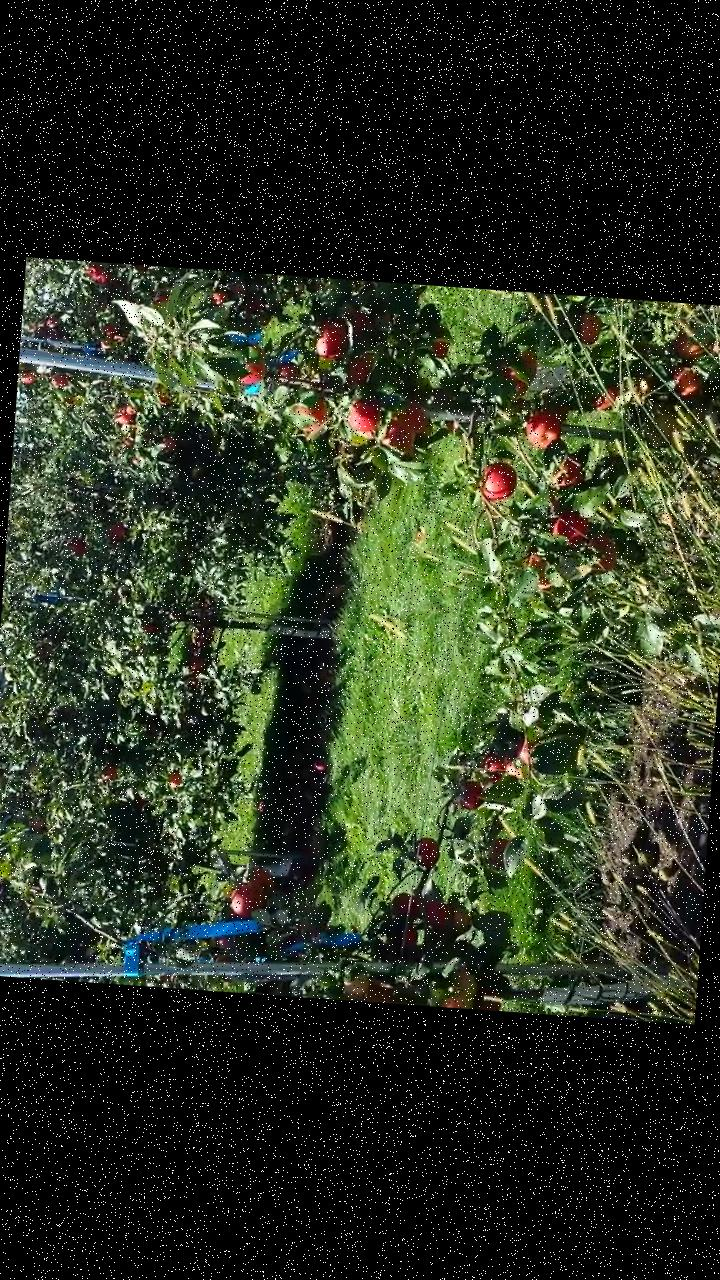Apple: (498, 346, 536, 394), (523, 404, 563, 449), (479, 458, 519, 502), (550, 506, 590, 546), (390, 398, 432, 436), (500, 730, 533, 778), (236, 341, 268, 386), (583, 532, 619, 572), (312, 318, 346, 358), (226, 879, 264, 914), (292, 393, 327, 430), (550, 454, 586, 488), (382, 418, 416, 453), (346, 398, 380, 432), (526, 550, 554, 588), (669, 364, 699, 397), (450, 964, 482, 994), (340, 970, 373, 999), (391, 890, 422, 920), (474, 981, 507, 1009), (420, 897, 448, 929), (458, 779, 485, 812), (669, 332, 706, 356), (361, 978, 397, 1002), (484, 836, 509, 870), (246, 866, 274, 896), (588, 382, 618, 410), (578, 307, 600, 343), (449, 904, 475, 934), (480, 752, 506, 782), (437, 988, 475, 1008), (416, 837, 441, 865), (344, 354, 368, 380), (344, 310, 366, 332), (276, 359, 300, 378), (430, 338, 447, 358), (401, 924, 417, 944)
